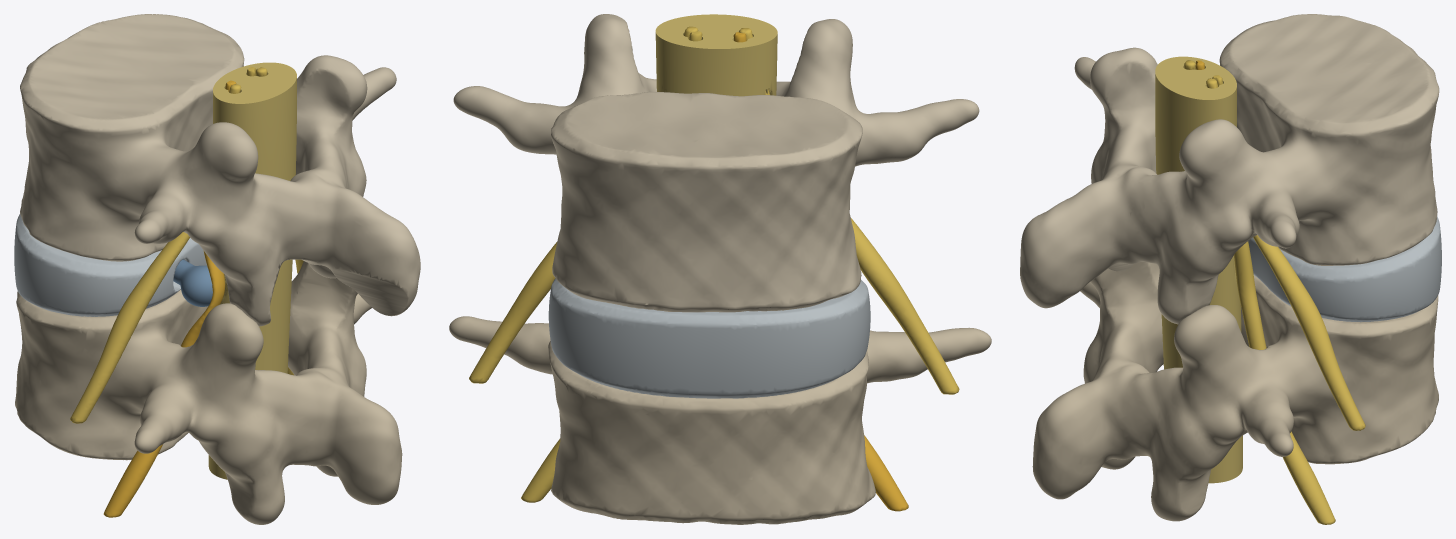
File: spine_recurrent_herniation.glb
3 renders of one model, left to right at view 1: azimuth 30°, elevation 25°; view 2: azimuth 150°, elevation 25°; view 3: azimuth 270°, elevation 25°, orthographic. The views are drawn at different scales.
Parts seen in each view (by area): view 1: l4_vertebra, l5_vertebra, thecal_sac, annulus_fibrosus, nerve_roots, l5_nerve_root_left, disc_herniation; view 2: l4_vertebra, l5_vertebra, annulus_fibrosus, thecal_sac, nerve_roots, l5_nerve_root_left; view 3: l4_vertebra, l5_vertebra, annulus_fibrosus, thecal_sac, nerve_roots.
Part boxes in pixels (x1,y1,x2,y2): l4_vertebra: (20, 14, 420, 326); l5_vertebra: (15, 261, 402, 524); thecal_sac: (208, 62, 296, 479); annulus_fibrosus: (14, 214, 206, 316); nerve_roots: (70, 67, 303, 423); l5_nerve_root_left: (103, 80, 236, 517); disc_herniation: (173, 259, 212, 306); l4_vertebra: (453, 14, 979, 312); l5_vertebra: (449, 316, 991, 524); annulus_fibrosus: (548, 278, 870, 398); thecal_sac: (655, 14, 777, 96); nerve_roots: (469, 26, 959, 502); l5_nerve_root_left: (733, 32, 908, 511); l4_vertebra: (1020, 14, 1439, 324); l5_vertebra: (1032, 262, 1438, 521); annulus_fibrosus: (1248, 216, 1441, 322); thecal_sac: (1155, 56, 1242, 483); nerve_roots: (1184, 60, 1365, 524).
Size of the model in its own units: 7.95 by 7.92 by 7.36.
